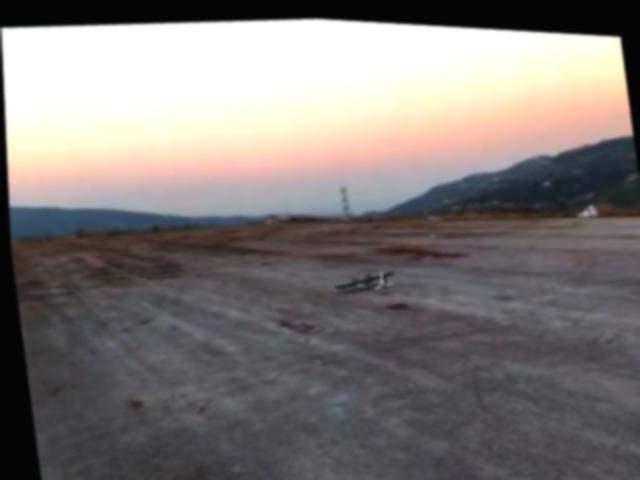uav: (327, 260, 396, 294)
